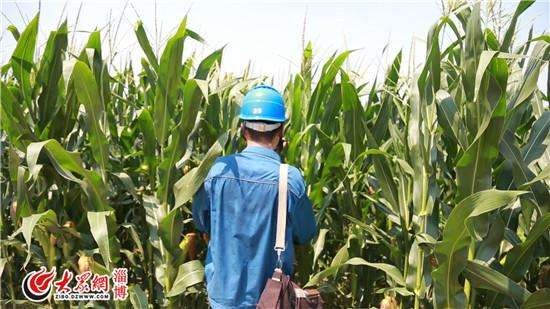blue: (235, 84, 288, 153)
